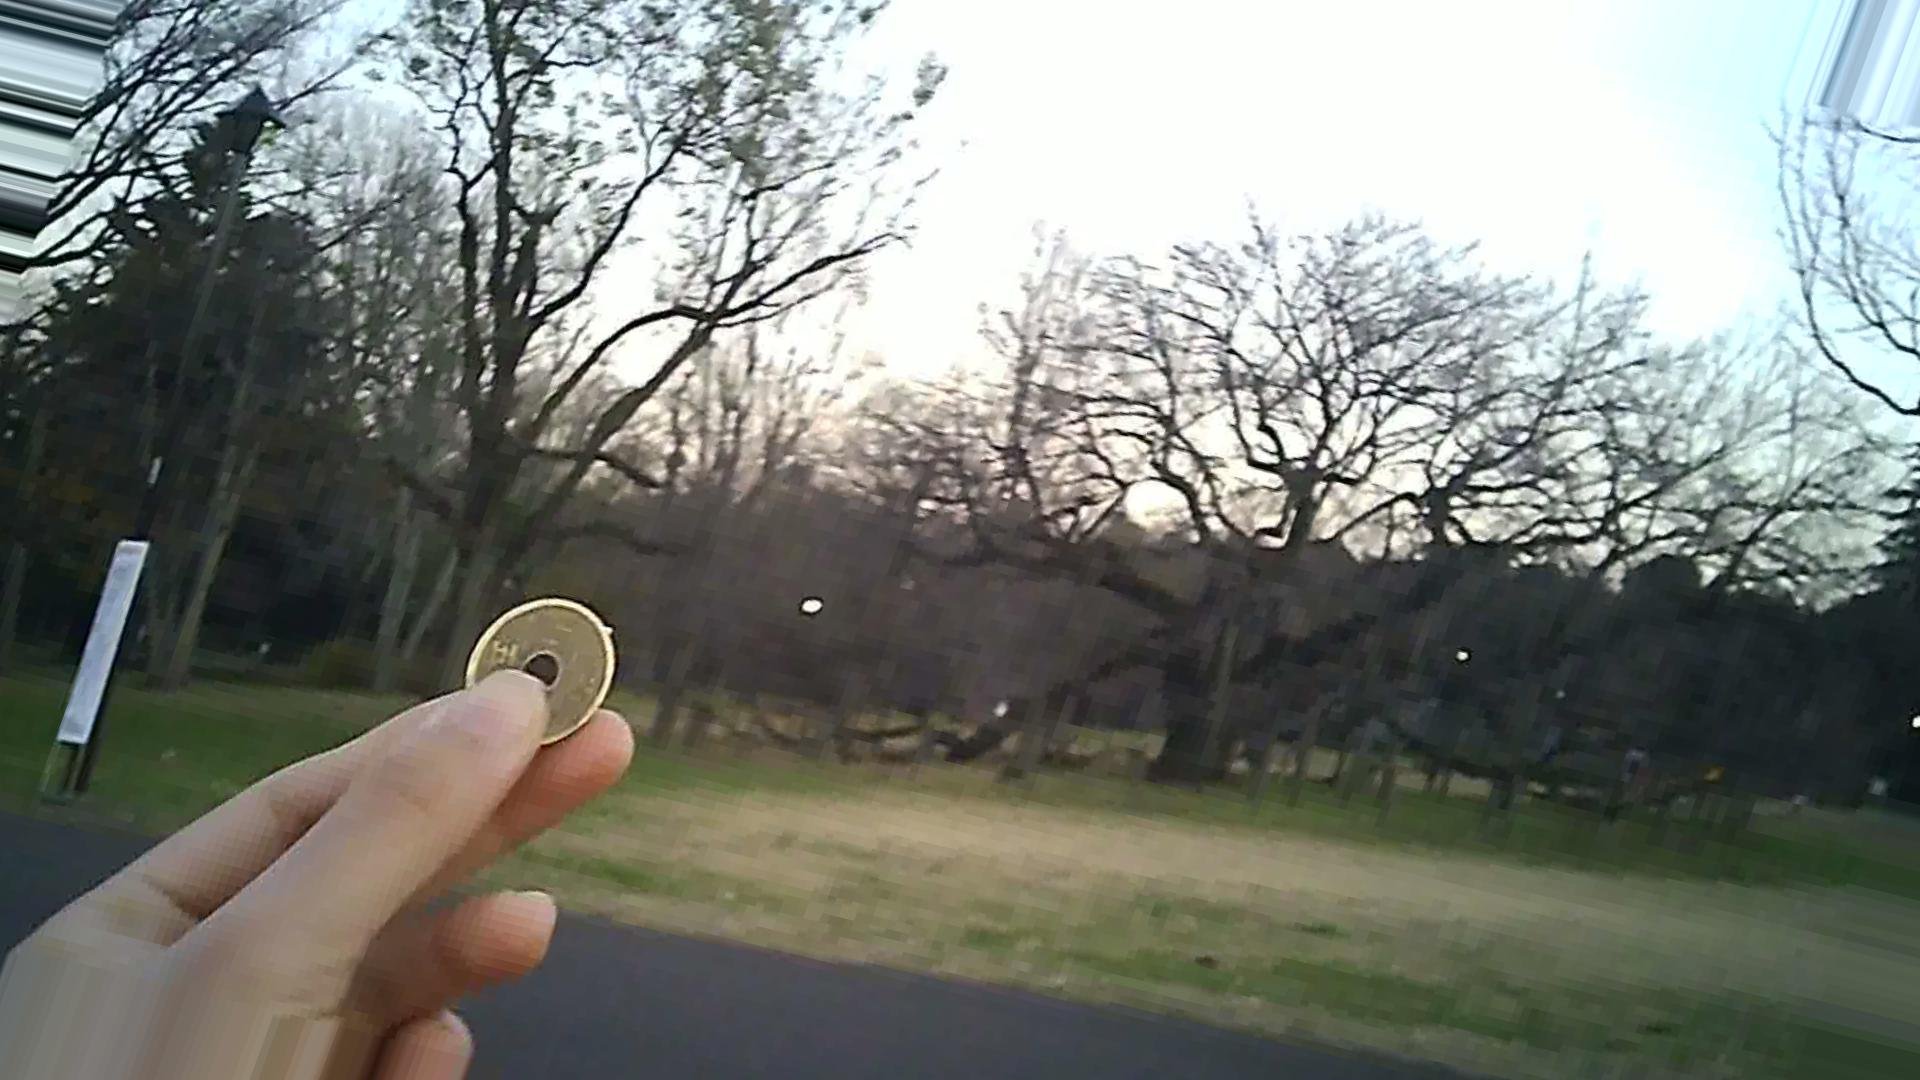5 Yen: (454, 597, 618, 765)
